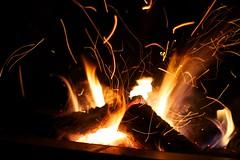fire: (63, 54, 237, 156)
